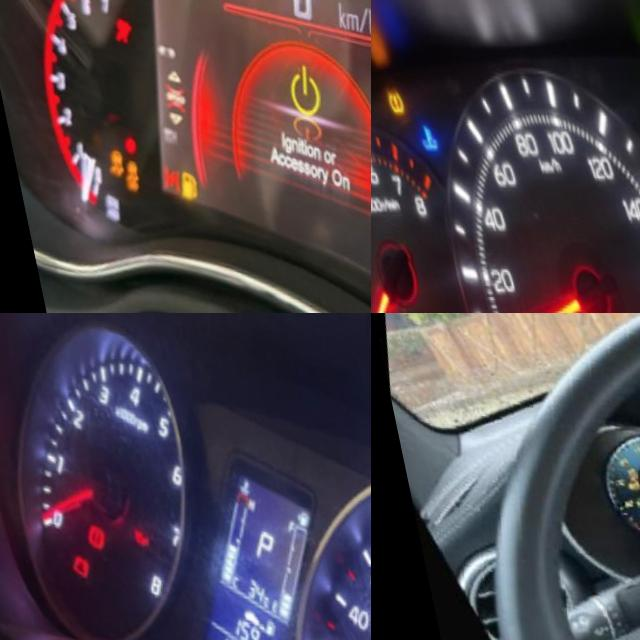Engine cooling system: (402, 115, 435, 154)
